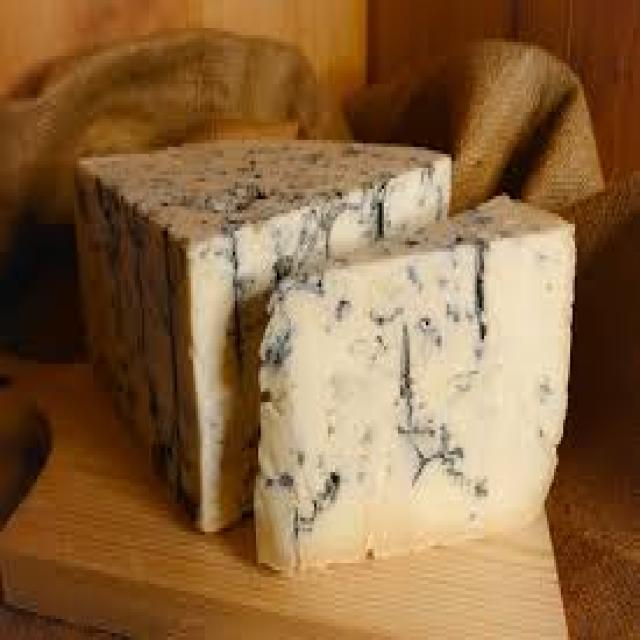Cheese: (68, 117, 446, 583), (264, 181, 576, 572)
